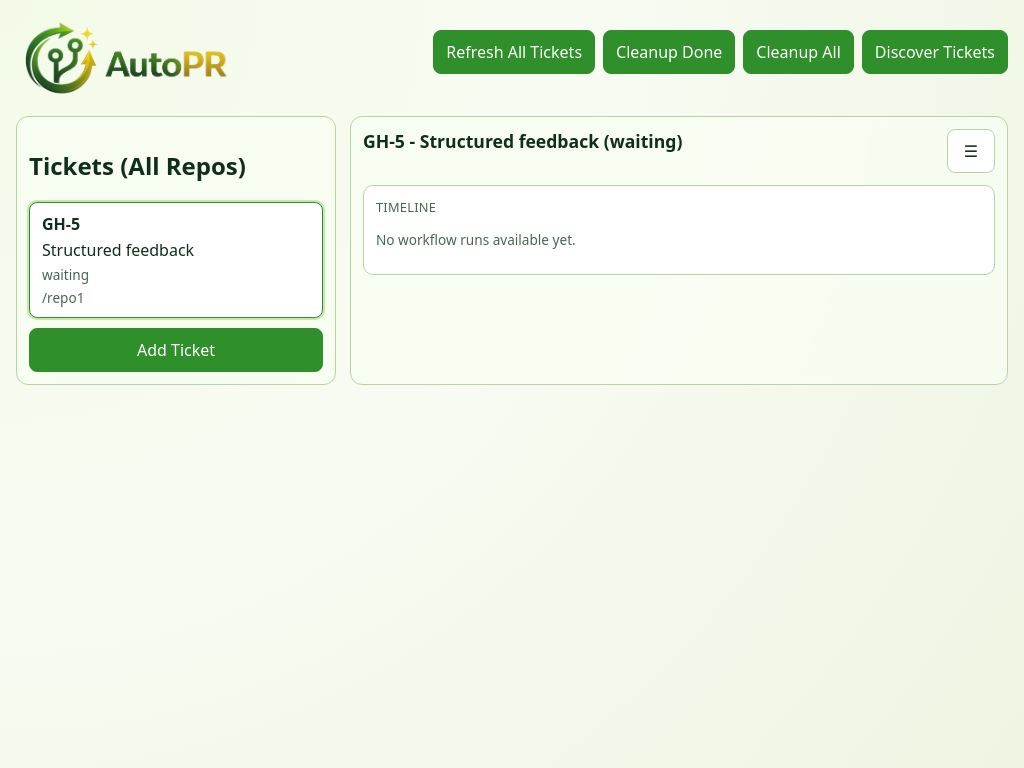
it: App discover tickets › filters tracked tickets and keeps the discover modal open after adding
Click the button "Discover Tickets": [935, 52] box [862,30,1008,74]
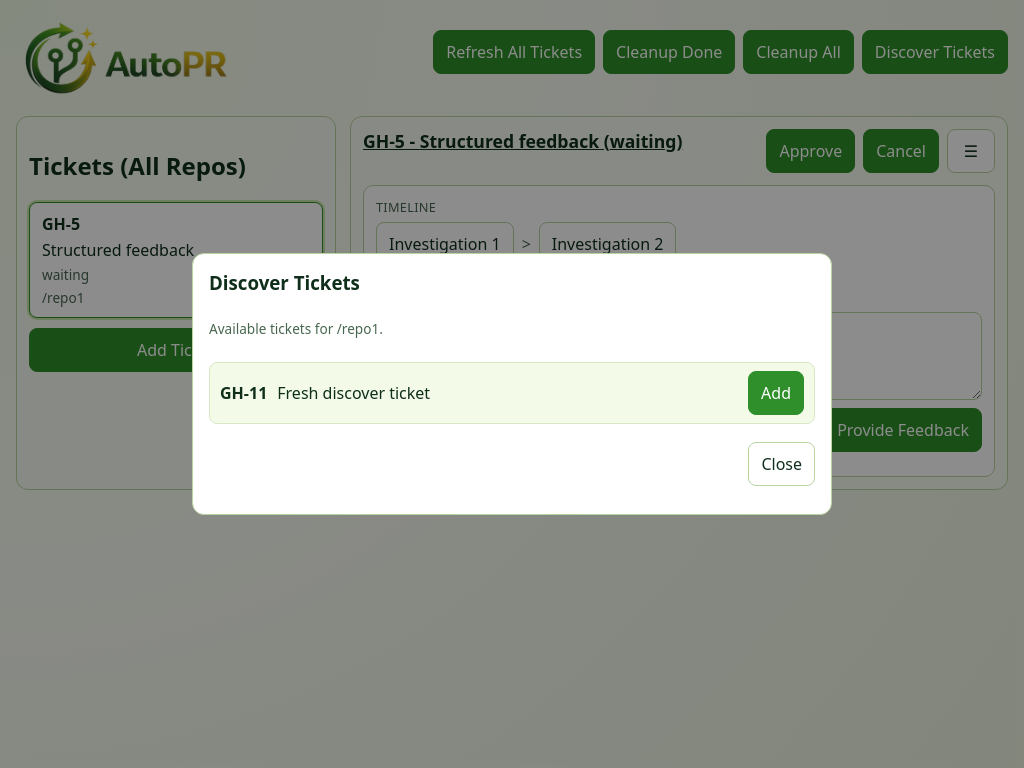
Now the text "Fresh discover ticket" is shown, box [277,382,430,404]
Click the button "Add": [776, 393] box [748,371,804,415]
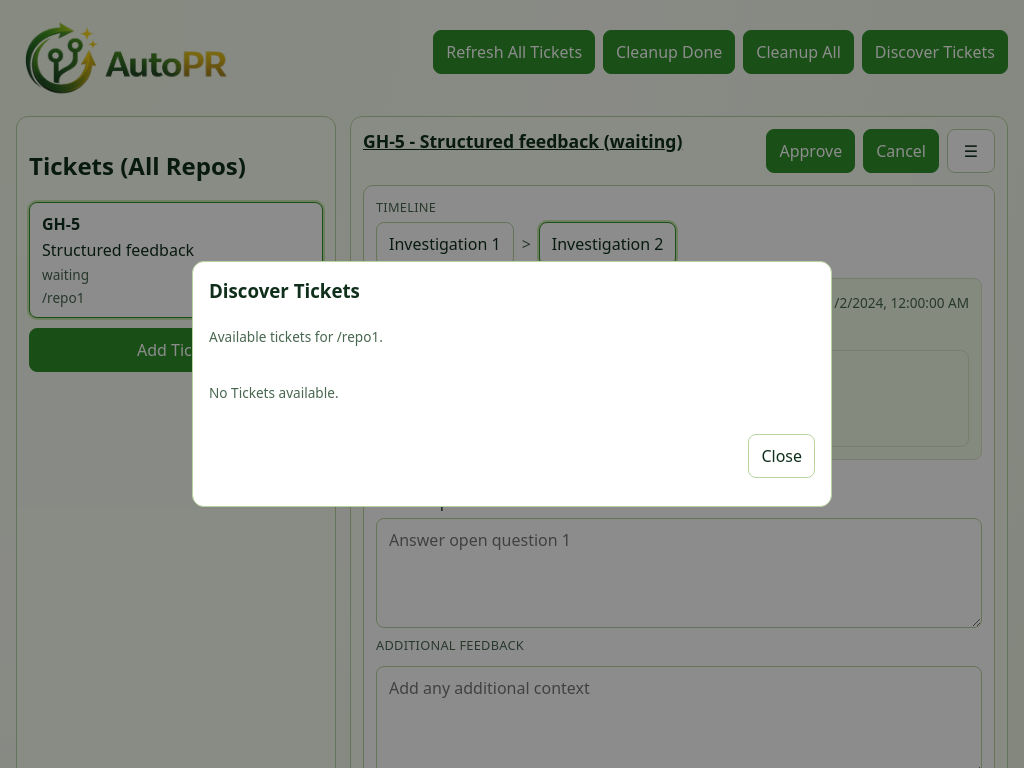
Now the button "Close" is shown, box [748,434,815,478]
Now the text "Fresh discover ticket" is gone
